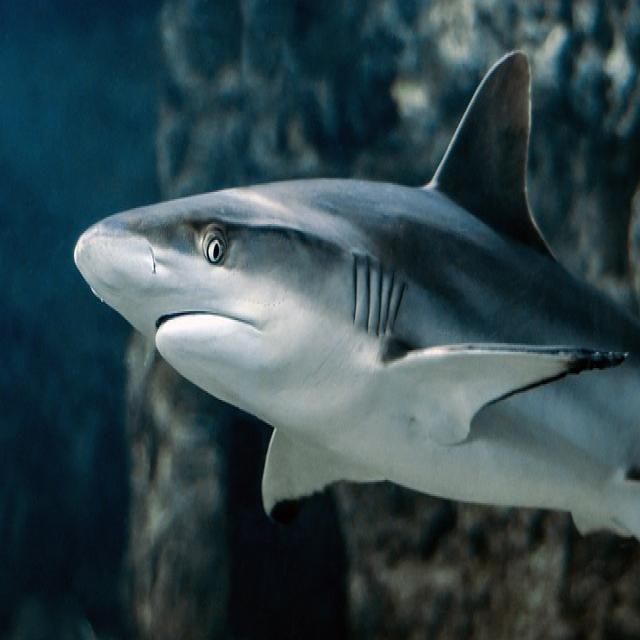Carnivorous: (72, 53, 640, 544)
